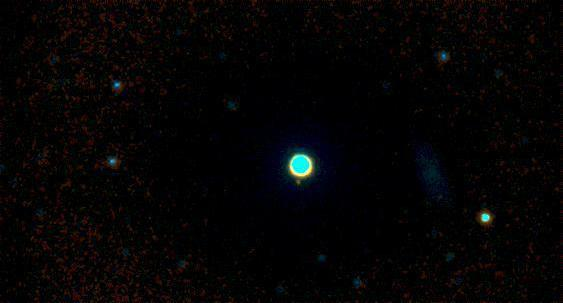star: (282, 168, 312, 198)
